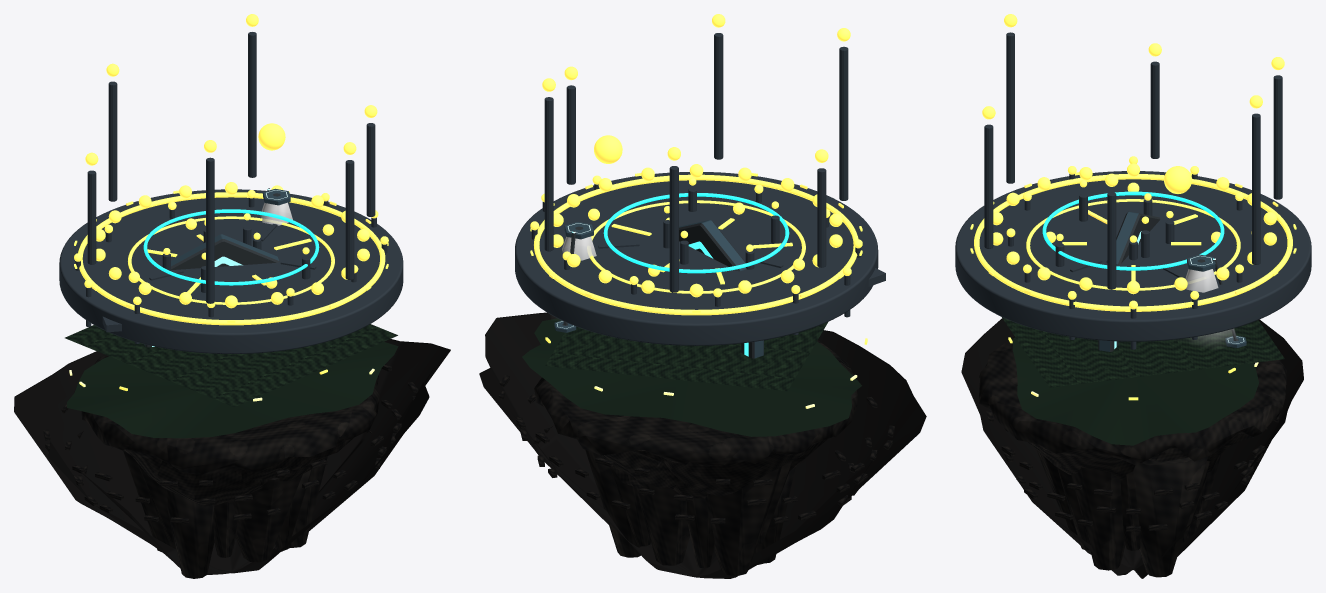
3 renders of one model, left to right at view 1: azimuth 30°, elevation 25°; view 2: azimuth 150°, elevation 25°; view 3: azimuth 270°, elevation 25°, orthographic. The views are drawn at different scales.
Parts seen in each view (by area): view 1: AI_PM_bug_round_deck, AI_PM_bug_organic_rock_shell, AI_PM_bug_terrain_cap, AI_PM_bug_island_Floating_Island_01_Art, AI_PM_bug_terrain_surface_Terrain_Art, AI_PM_bug_underside_shard_03, AI_PM_bug_outer_light_ring, AI_PM_bug_underside_shard_05, AI_PM_bug_dock_door, AI_PM_bug_inner_service_ring, AI_PM_bug_spire_mast_02, AI_PM_bug_spire_mast_05 (+11 smaller); view 2: AI_PM_bug_round_deck, AI_PM_bug_organic_rock_shell, AI_PM_bug_terrain_cap, AI_PM_bug_island_Floating_Island_01_Art, AI_PM_bug_terrain_surface_Terrain_Art, AI_PM_bug_underside_shard_07, AI_PM_bug_outer_light_ring, AI_PM_bug_underside_shard_09, AI_PM_bug_dock_door, AI_PM_bug_underside_shard_11, AI_PM_bug_inner_service_ring, AI_PM_bug_spire_mast_05 (+12 smaller); view 3: AI_PM_bug_round_deck, AI_PM_bug_terrain_cap, AI_PM_bug_island_Floating_Island_01_Art, AI_PM_bug_terrain_surface_Terrain_Art, AI_PM_bug_organic_rock_shell, AI_PM_bug_underside_shard_11, AI_PM_bug_underside_shard_01, AI_PM_bug_outer_light_ring, AI_PM_bug_inner_service_ring, AI_PM_bug_spire_mast_02, AI_PM_bug_spire_mast_05, AI_PM_bug_circuit_outer_glow (+12 smaller).
Part boxes in pixels (x1=…): AI_PM_bug_round_deck: x1=59, y1=189, x2=403, y2=353; AI_PM_bug_organic_rock_shell: x1=14, y1=339, x2=450, y2=574; AI_PM_bug_terrain_cap: x1=67, y1=342, x2=398, y2=438; AI_PM_bug_island_Floating_Island_01_Art: x1=74, y1=355, x2=379, y2=506; AI_PM_bug_terrain_surface_Terrain_Art: x1=65, y1=324, x2=397, y2=407; AI_PM_bug_underside_shard_03: x1=233, y1=474, x2=302, y2=562; AI_PM_bug_outer_light_ring: x1=78, y1=192, x2=385, y2=325; AI_PM_bug_underside_shard_05: x1=167, y1=490, x2=214, y2=578; AI_PM_bug_dock_door: x1=144, y1=234, x2=279, y2=347; AI_PM_bug_inner_service_ring: x1=143, y1=209, x2=319, y2=285; AI_PM_bug_spire_mast_02: x1=206, y1=157, x2=214, y2=303; AI_PM_bug_spire_mast_05: x1=248, y1=32, x2=256, y2=177; AI_PM_bug_round_deck: x1=515, y1=172, x2=878, y2=345; AI_PM_bug_organic_rock_shell: x1=479, y1=312, x2=926, y2=578; AI_PM_bug_terrain_cap: x1=522, y1=318, x2=861, y2=436; AI_PM_bug_island_Floating_Island_01_Art: x1=534, y1=340, x2=857, y2=501; AI_PM_bug_terrain_surface_Terrain_Art: x1=545, y1=322, x2=827, y2=391; AI_PM_bug_underside_shard_07: x1=705, y1=466, x2=781, y2=575; AI_PM_bug_outer_light_ring: x1=534, y1=174, x2=858, y2=315; AI_PM_bug_underside_shard_09: x1=636, y1=483, x2=689, y2=565; AI_PM_bug_dock_door: x1=679, y1=220, x2=763, y2=358; AI_PM_bug_underside_shard_11: x1=585, y1=450, x2=640, y2=557; AI_PM_bug_inner_service_ring: x1=603, y1=193, x2=789, y2=273; AI_PM_bug_spire_mast_05: x1=544, y1=97, x2=553, y2=251; AI_PM_bug_round_deck: x1=955, y1=171, x2=1311, y2=341; AI_PM_bug_terrain_cap: x1=1012, y1=337, x2=1258, y2=445; AI_PM_bug_island_Floating_Island_01_Art: x1=979, y1=336, x2=1286, y2=480; AI_PM_bug_terrain_surface_Terrain_Art: x1=1002, y1=317, x2=1284, y2=387; AI_PM_bug_organic_rock_shell: x1=961, y1=318, x2=1303, y2=578; AI_PM_bug_underside_shard_11: x1=1133, y1=456, x2=1208, y2=577; AI_PM_bug_underside_shard_01: x1=1071, y1=467, x2=1125, y2=570; AI_PM_bug_outer_light_ring: x1=974, y1=174, x2=1292, y2=311; AI_PM_bug_inner_service_ring: x1=1042, y1=191, x2=1224, y2=270; AI_PM_bug_spire_mast_02: x1=1006, y1=32, x2=1014, y2=183; AI_PM_bug_spire_mast_05: x1=1252, y1=113, x2=1260, y2=264; AI_PM_bug_circuit_outer_glow: x1=1026, y1=199, x2=1240, y2=290.
Bounding box in the file's own units: 1.3 × 1.52 × 0.96.
14 materials, 5 textured.
